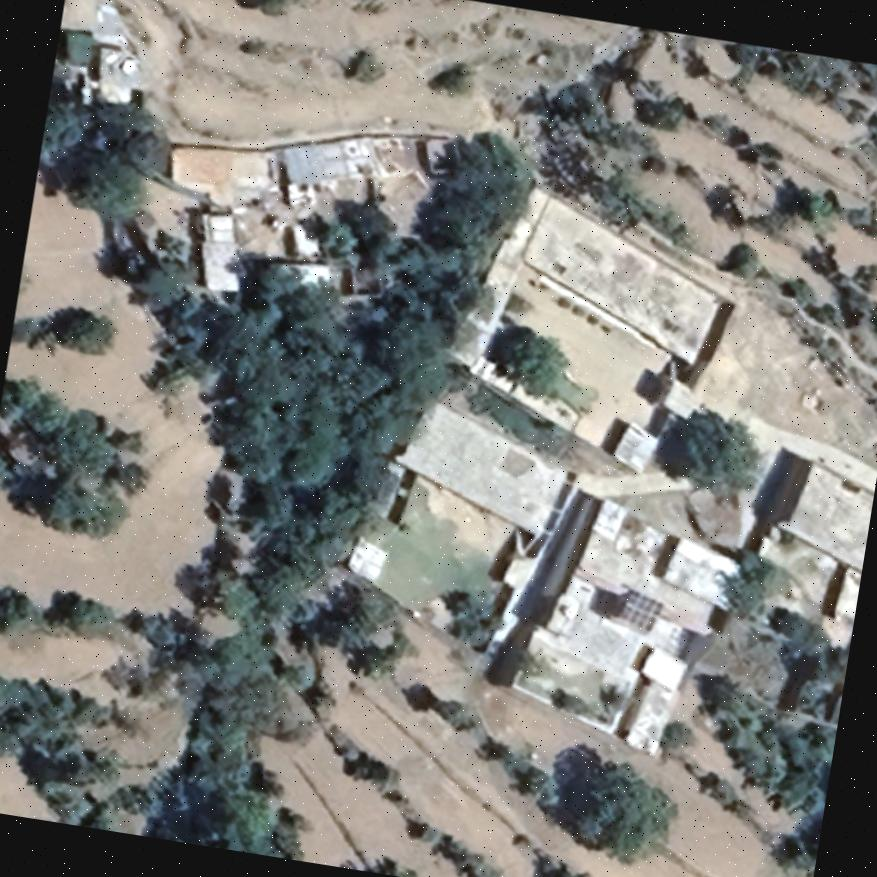Solarpanel: (616, 586, 665, 634)
